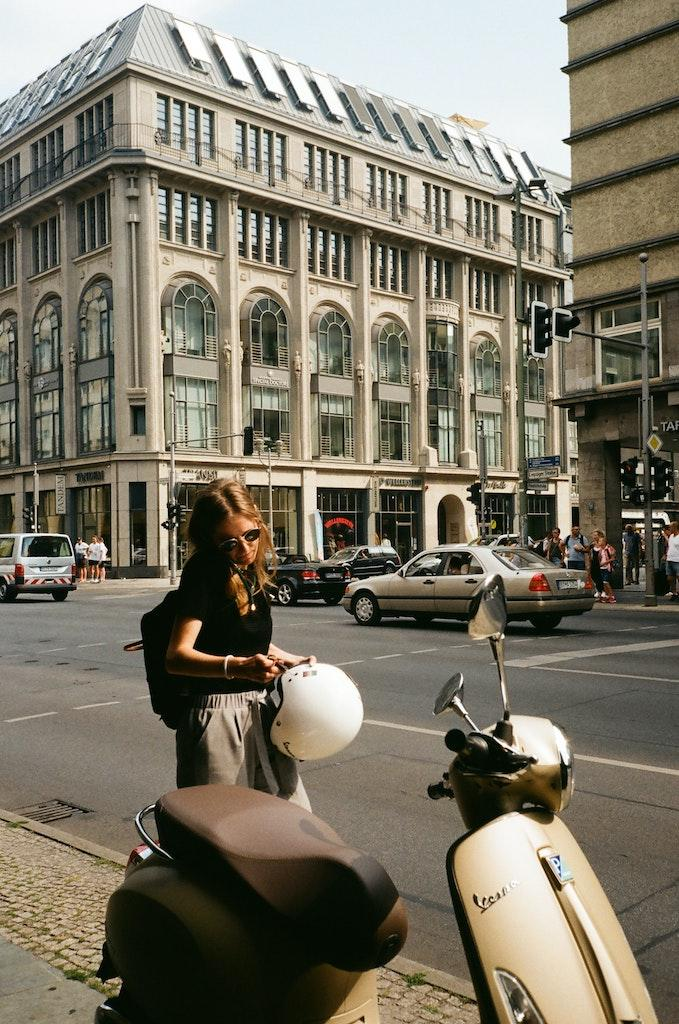helmet: (267, 661, 365, 763)
nohelmet: (186, 478, 265, 570)
